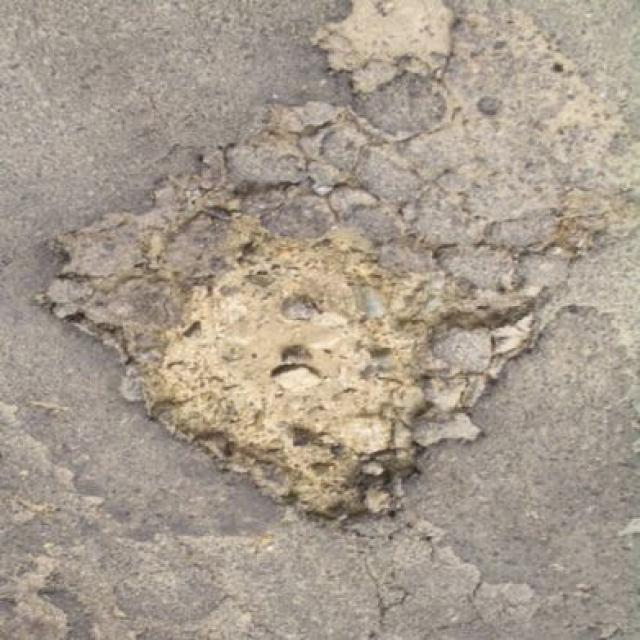pothole: (22, 91, 548, 532)
